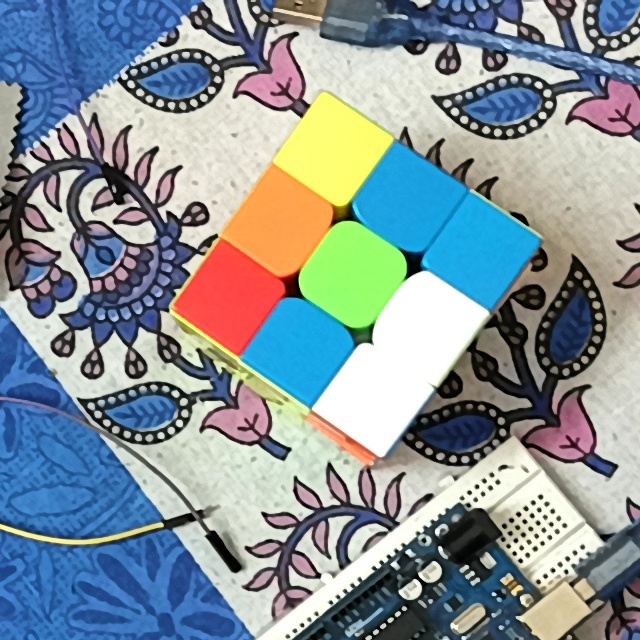tile: (321, 242, 386, 306), (395, 292, 457, 359), (452, 221, 512, 286), (378, 168, 439, 229), (271, 316, 331, 377), (251, 193, 312, 251), (204, 265, 260, 328), (301, 120, 361, 176), (343, 370, 404, 425)
